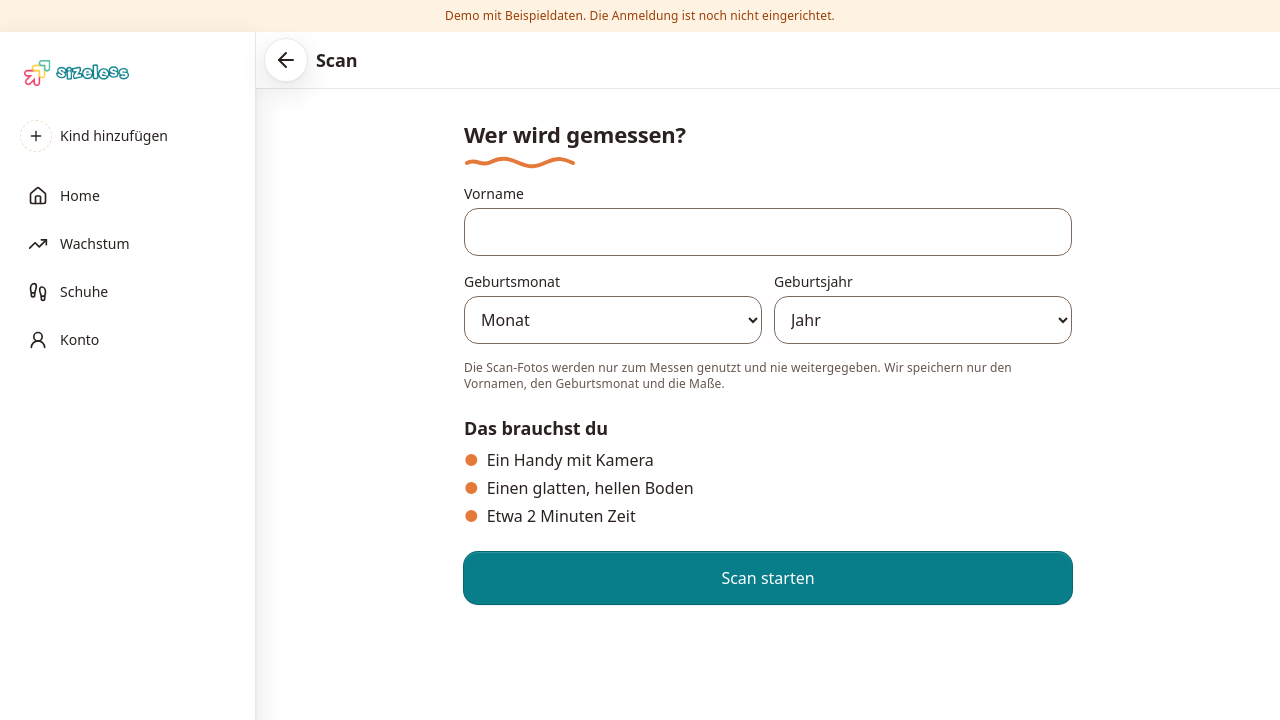
First visit (S02) › asks who is measured and only starts the scan with a name, month and year
The image size is (1280, 720).
Expected: the heading "Wer wird gemessen?" is shown, [464,119,686,168]
Click the button "Scan starten" at (768, 578), box [464,552,1072,604]
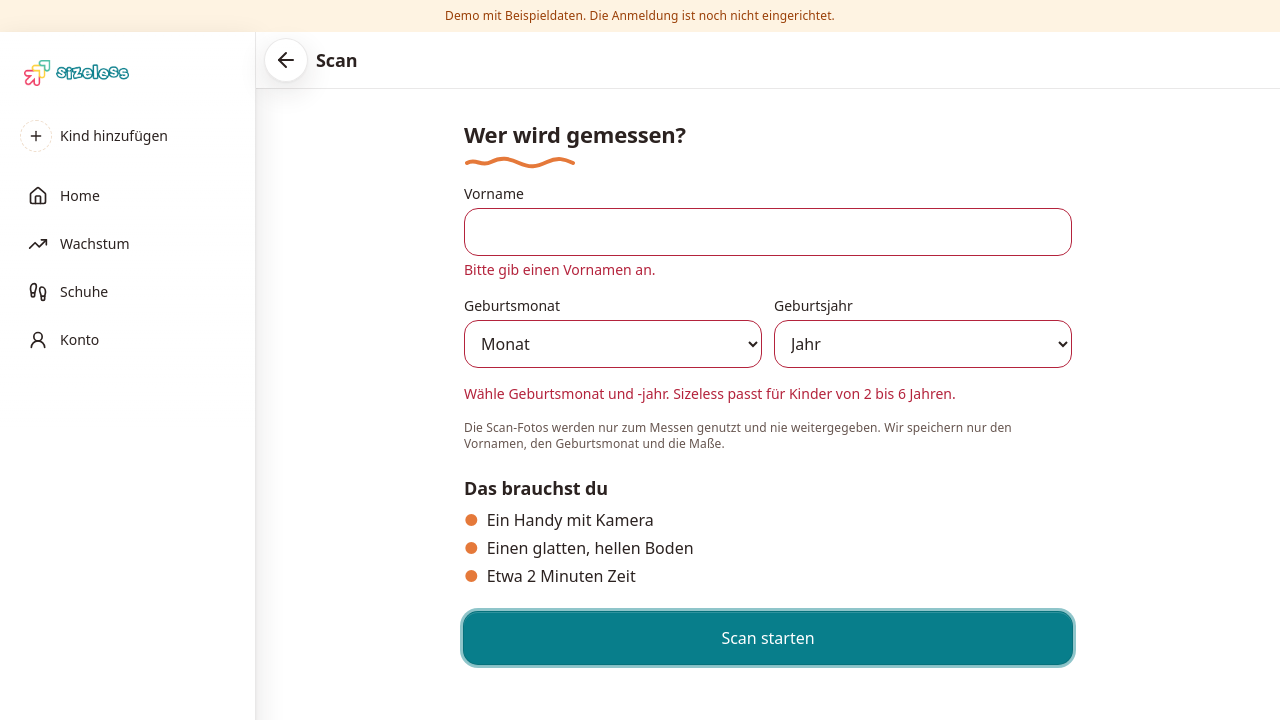
Expected: the text "Bitte gib einen Vornamen an." is shown, [464,260,656,279]
Expected: the text "Wähle Geburtsmonat und -jahr. Sizeless passt für Kinder von 2 bis 6 Jahren." is shown, [464,384,956,403]
Type "Nele" into the field labelled "Vorname" at (768, 232), box [464,208,1072,256]
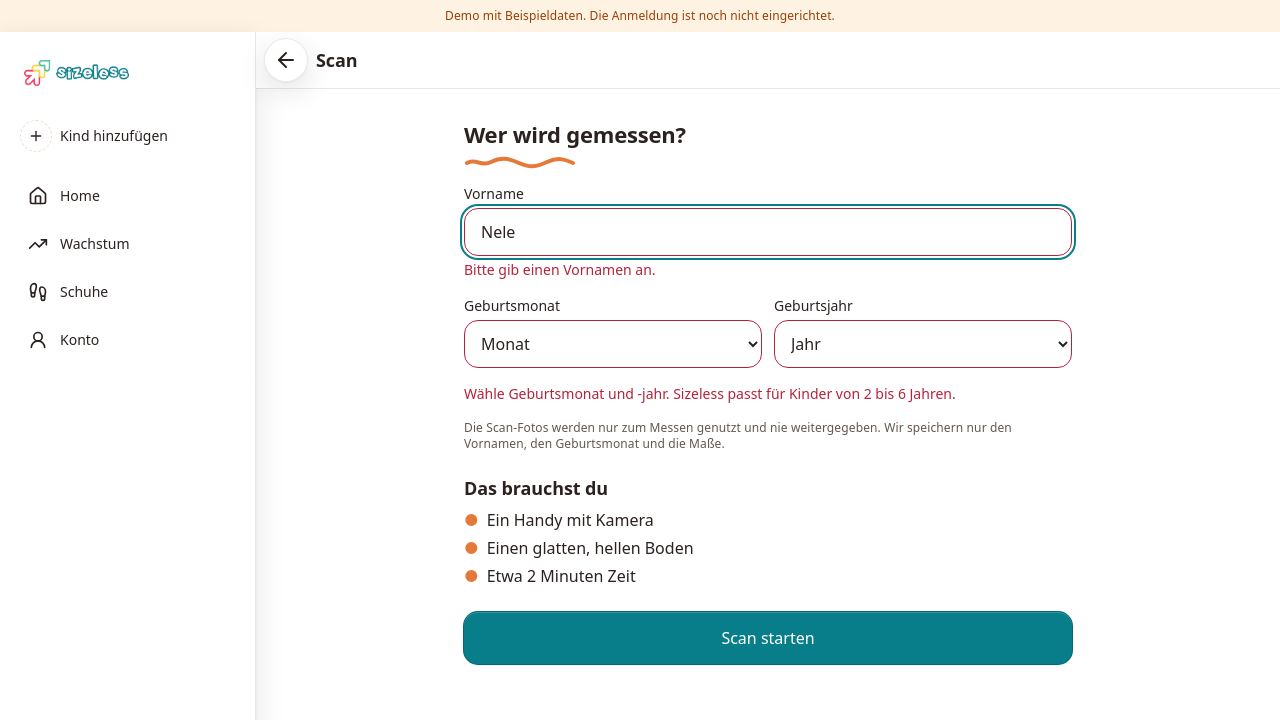
Select "März" in the dropdown labelled "Geburtsmonat" at (613, 344), box [464,320,762,368]
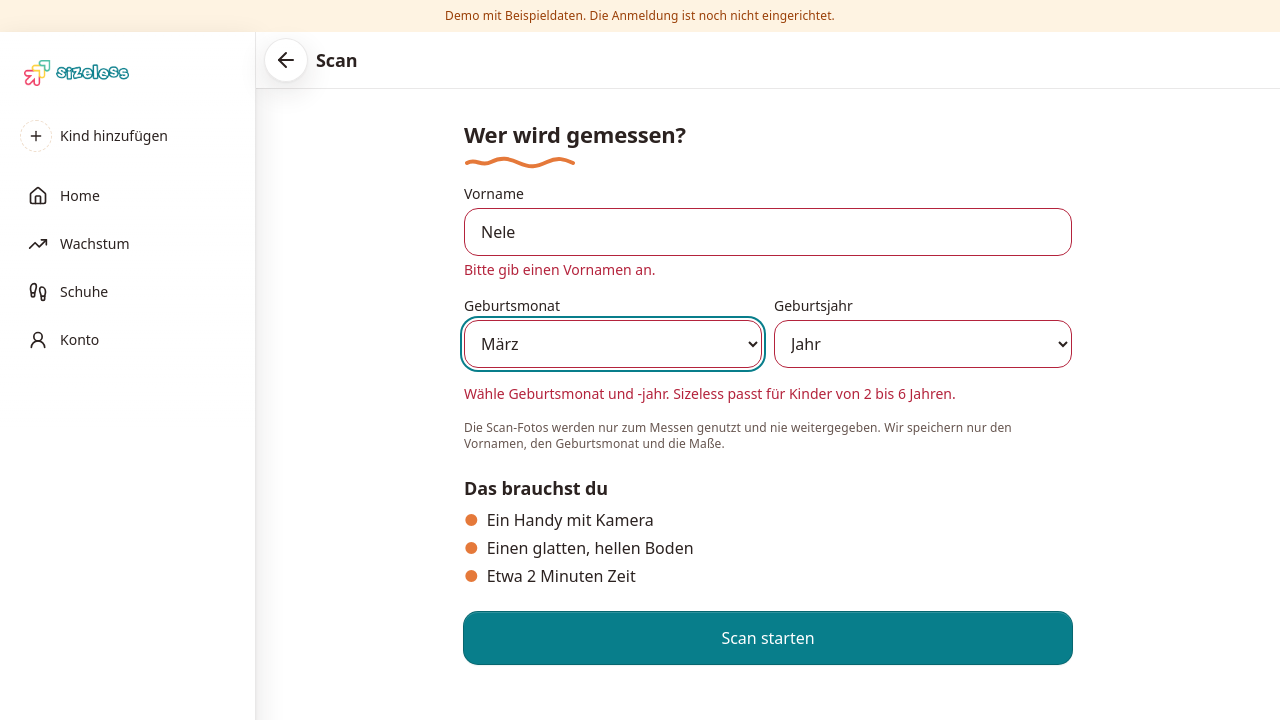
Select "2022" in the dropdown labelled "Geburtsjahr" at (923, 344), box [774,320,1072,368]
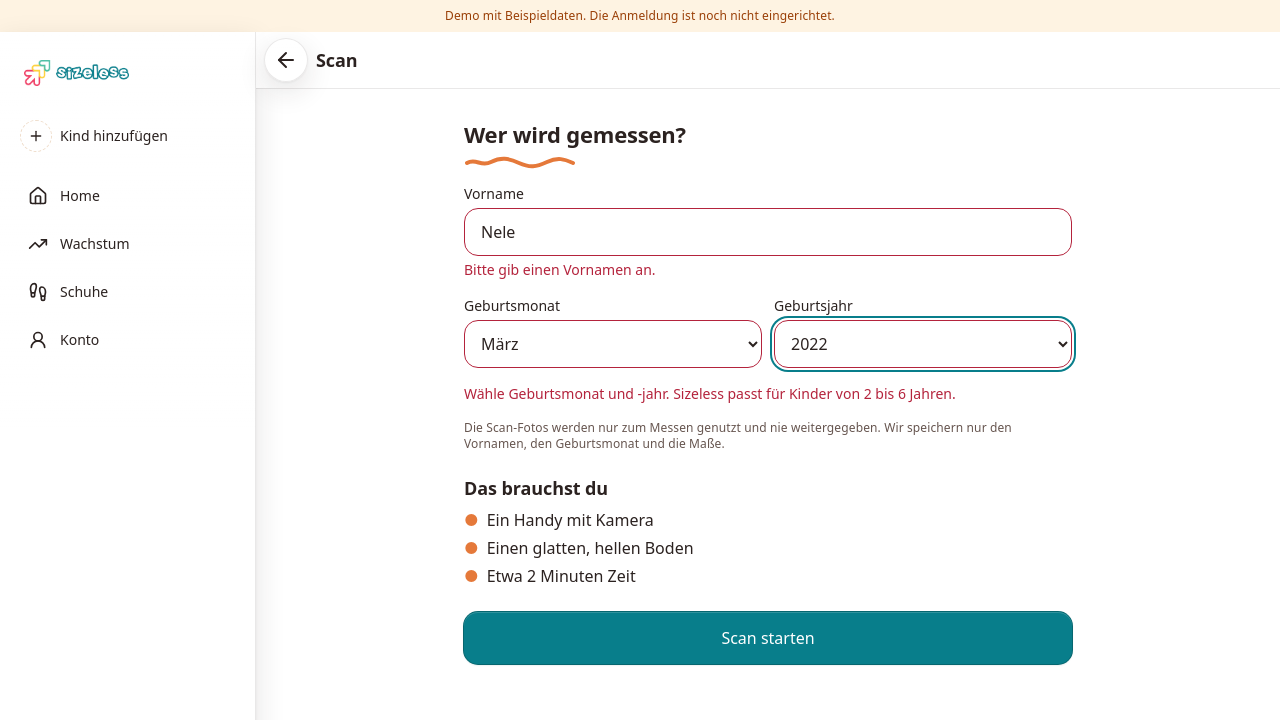
Click the button "Scan starten" at (768, 638), box [464,612,1072,664]
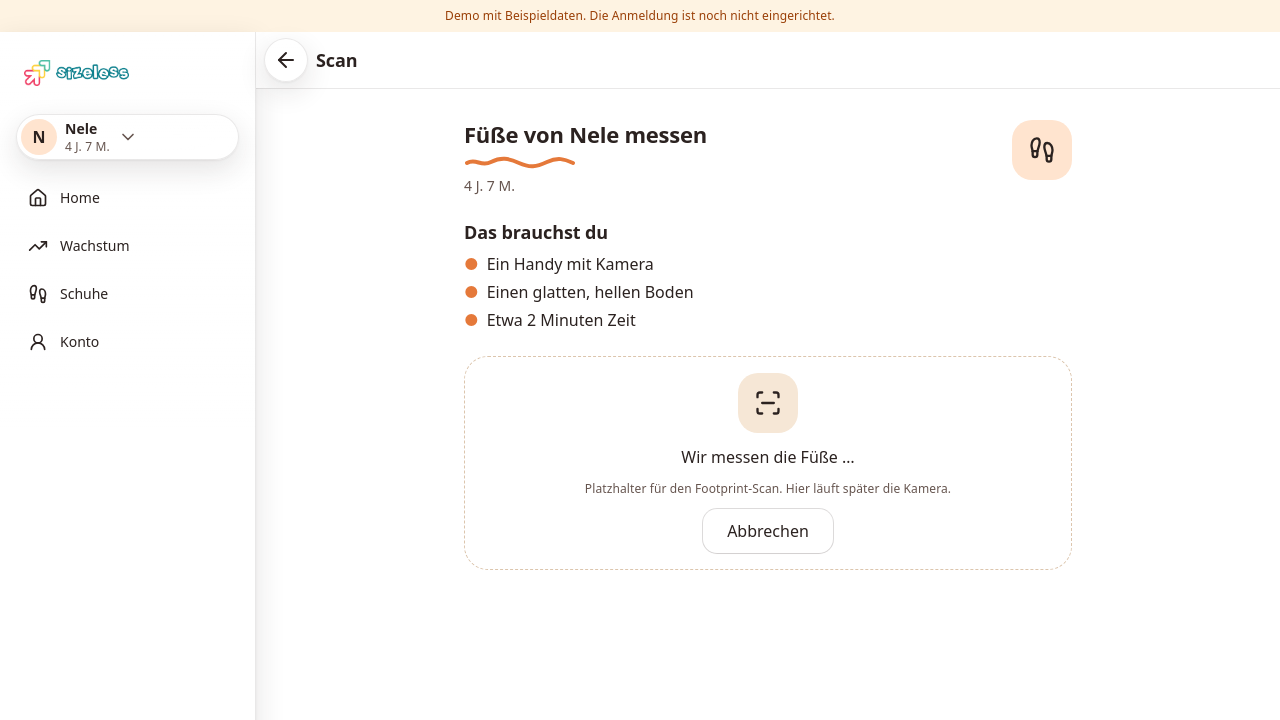
Expected: the message shows "Wir messen", [681,446,855,468]
Expected: the heading "Füße von Nele messen" is shown, [464,120,707,168]
